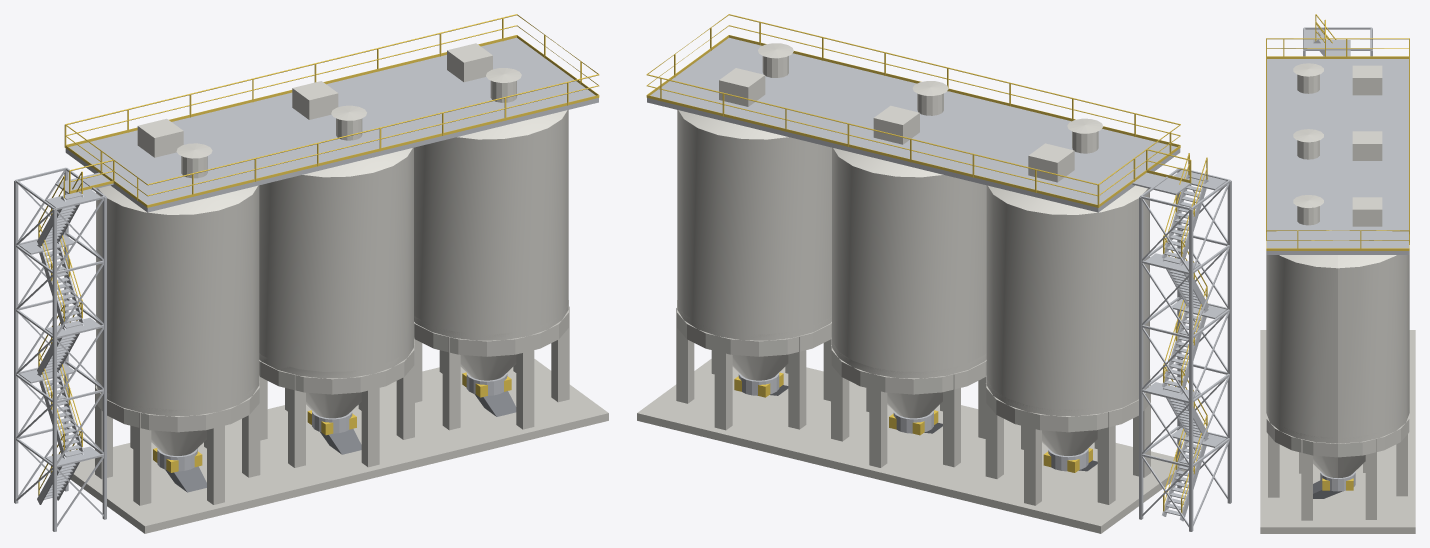
File: ore-processing-and-haulage-plant-silo-cluster-e4dde4e2.glb
The picture shows the model from 3 angles, left to right: view 1: azimuth 30°, elevation 25°; view 2: azimuth 150°, elevation 25°; view 3: azimuth 270°, elevation 25°; orthographic projection. The views are drawn at different scales.
Visible parts, largest first — view 1: silo-cluster; view 2: silo-cluster; view 3: silo-cluster.
Part boxes in pixels (box(x1,y1,x2,y2)): silo-cluster: box(14, 14, 608, 533); silo-cluster: box(637, 14, 1231, 533); silo-cluster: box(1260, 14, 1415, 533).
Size of the model in its own units: 25.37 by 15.84 by 7.4.
